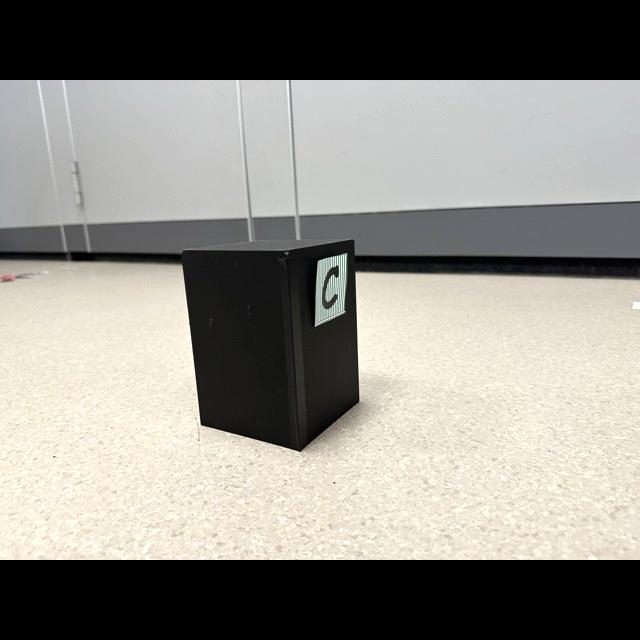C: (322, 265, 339, 310)
